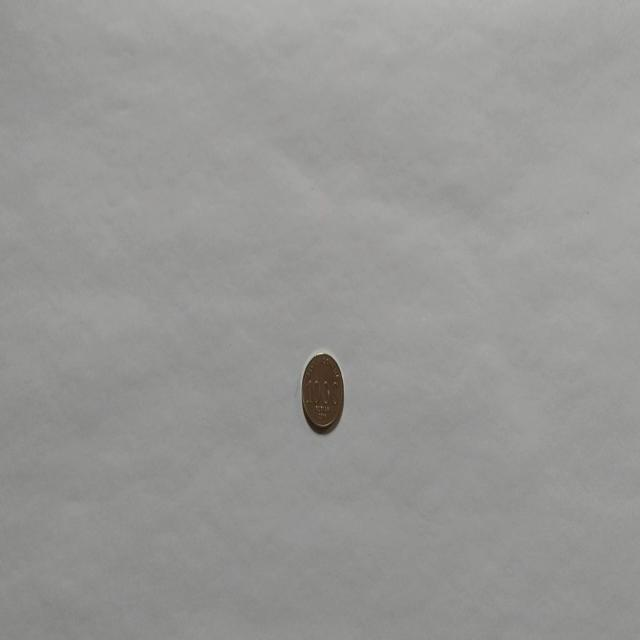seribu rupiah koin: (300, 349, 344, 434)
